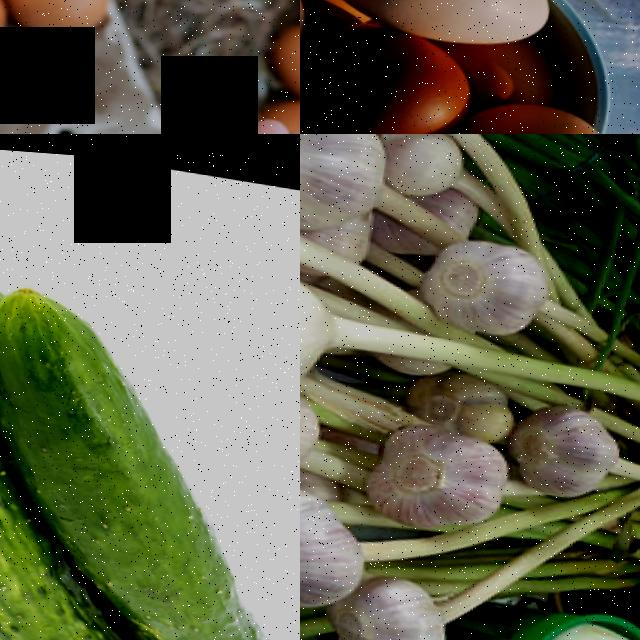cucumber: (0, 274, 209, 497), (138, 453, 300, 640), (0, 577, 203, 640)
egg_: (300, 13, 482, 134), (311, 0, 570, 50), (427, 82, 631, 134), (3, 0, 121, 40), (266, 12, 300, 105)
garlic: (371, 413, 519, 530), (419, 224, 559, 335), (516, 390, 635, 493), (300, 478, 378, 617), (341, 562, 468, 640), (300, 134, 394, 225), (300, 253, 343, 383), (300, 375, 332, 492)
